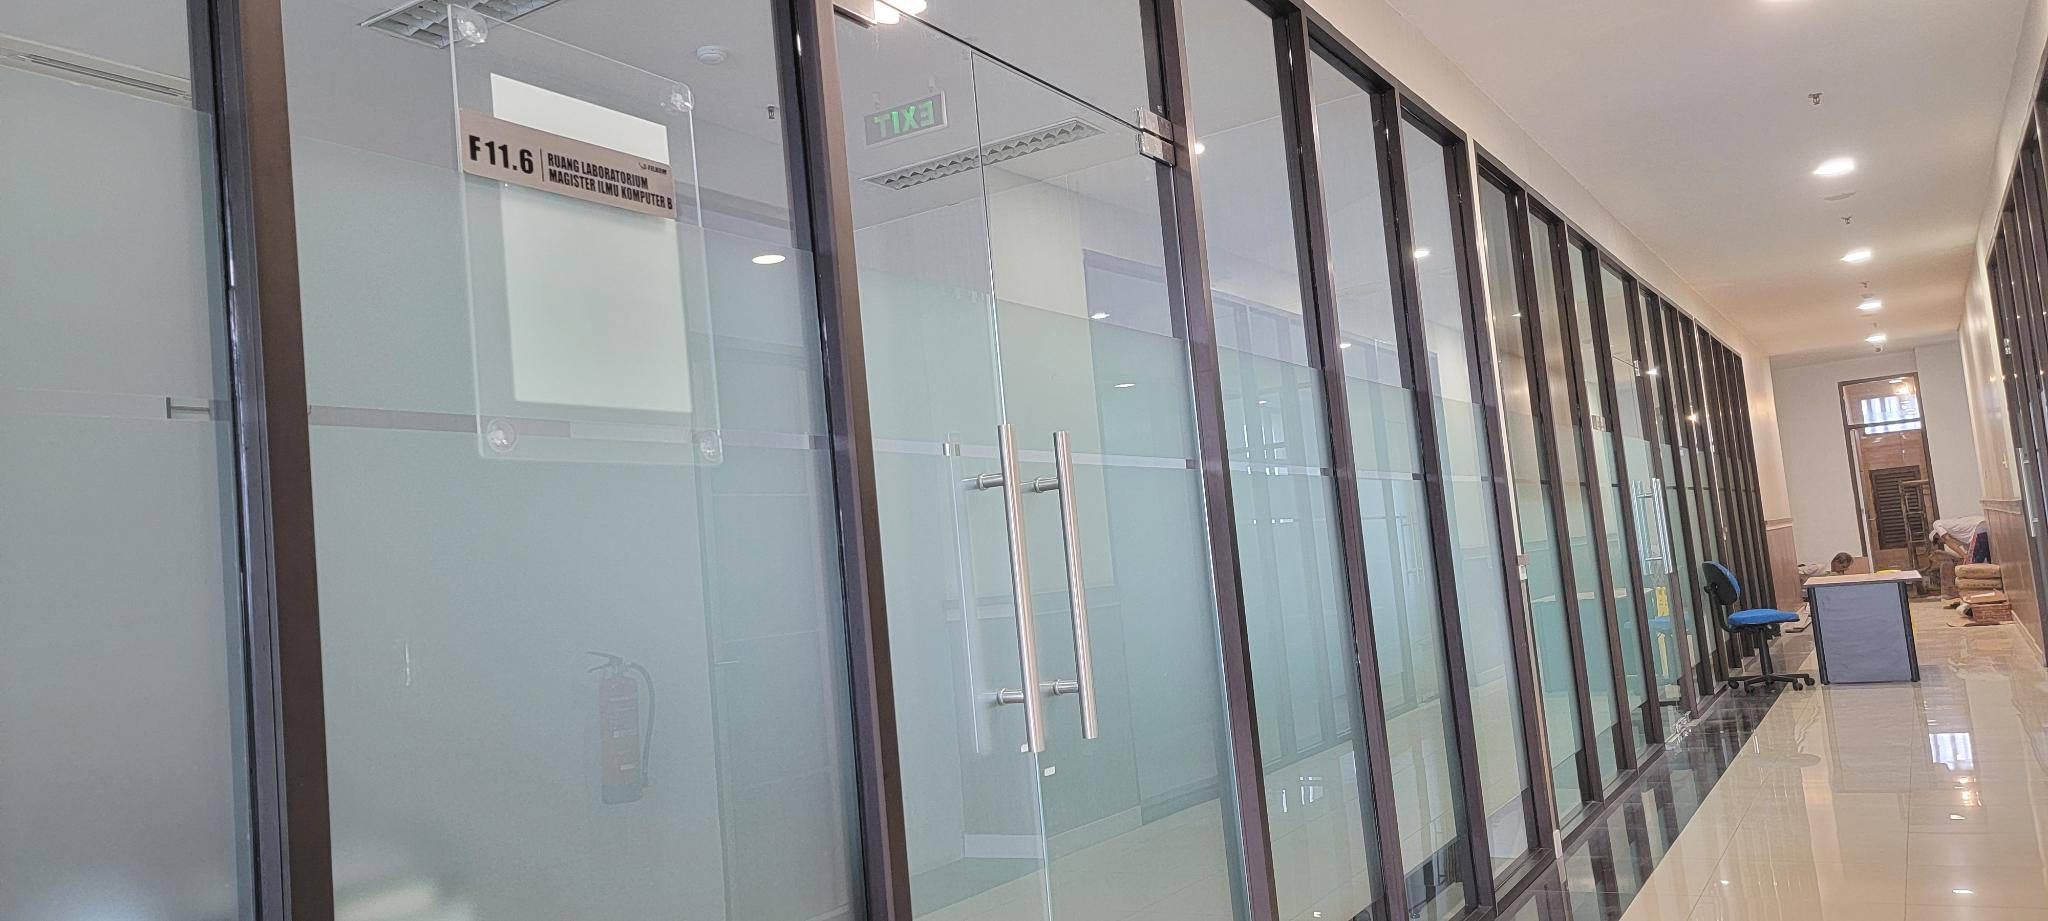plate: (458, 110, 678, 222)
